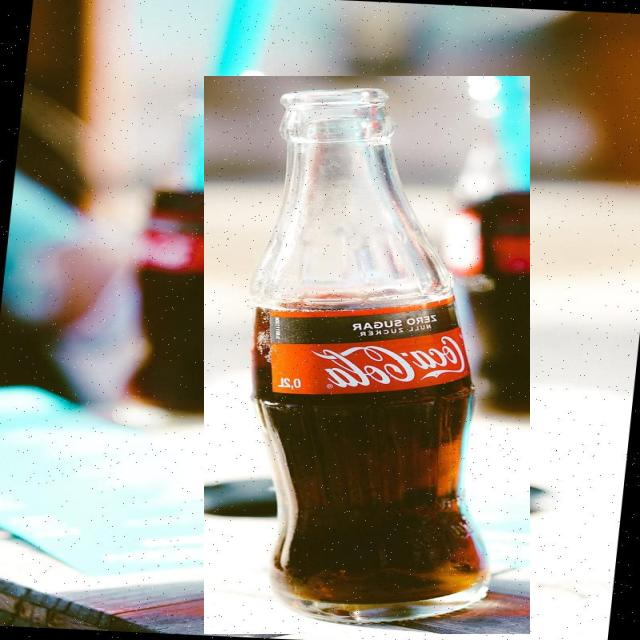coca-cola: (204, 76, 530, 634)
